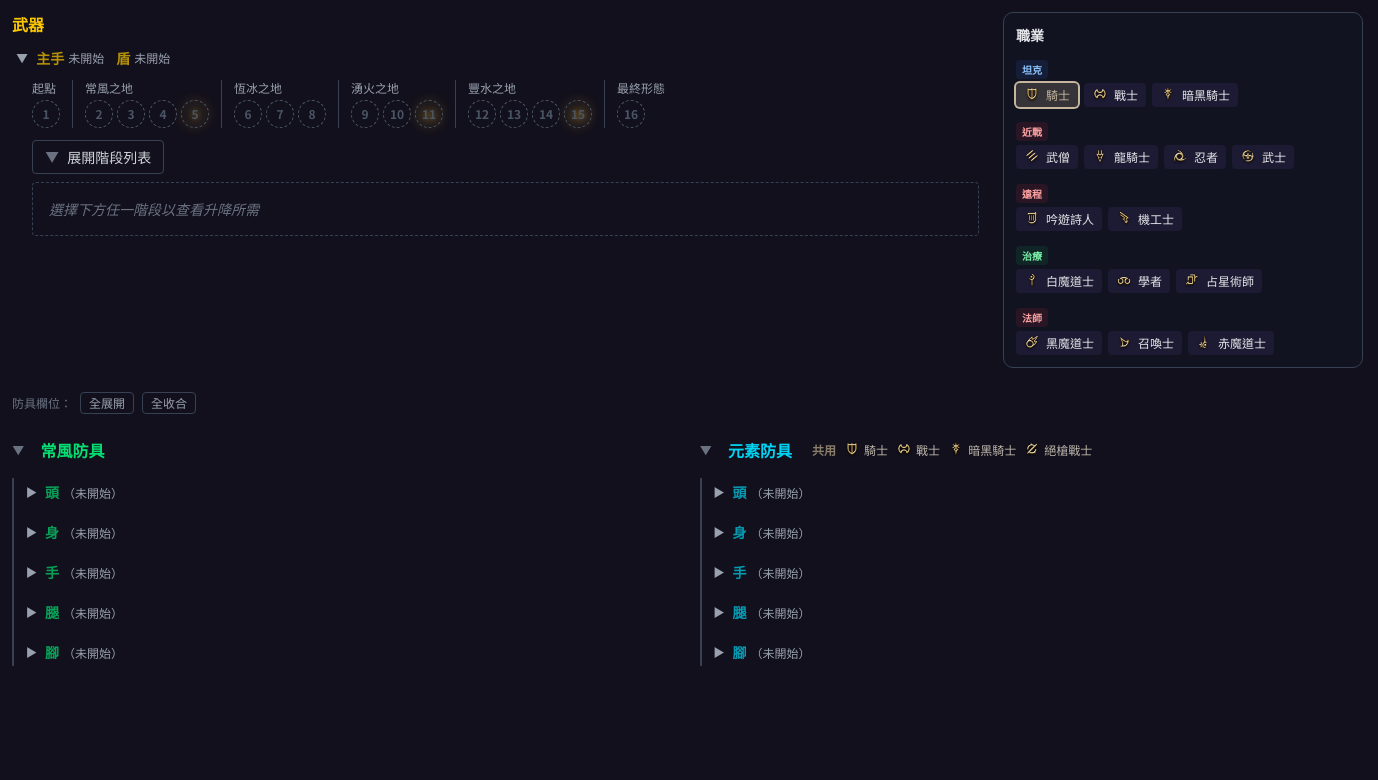
Scenario: DetailTab › armor track section collapse › clicking 常風防具 header collapses the section
This screenshot has width=1378, height=780.
Step 1. Click the button with aria-label "收合 常風防具" → click(73, 450), box [12,438,676,462]
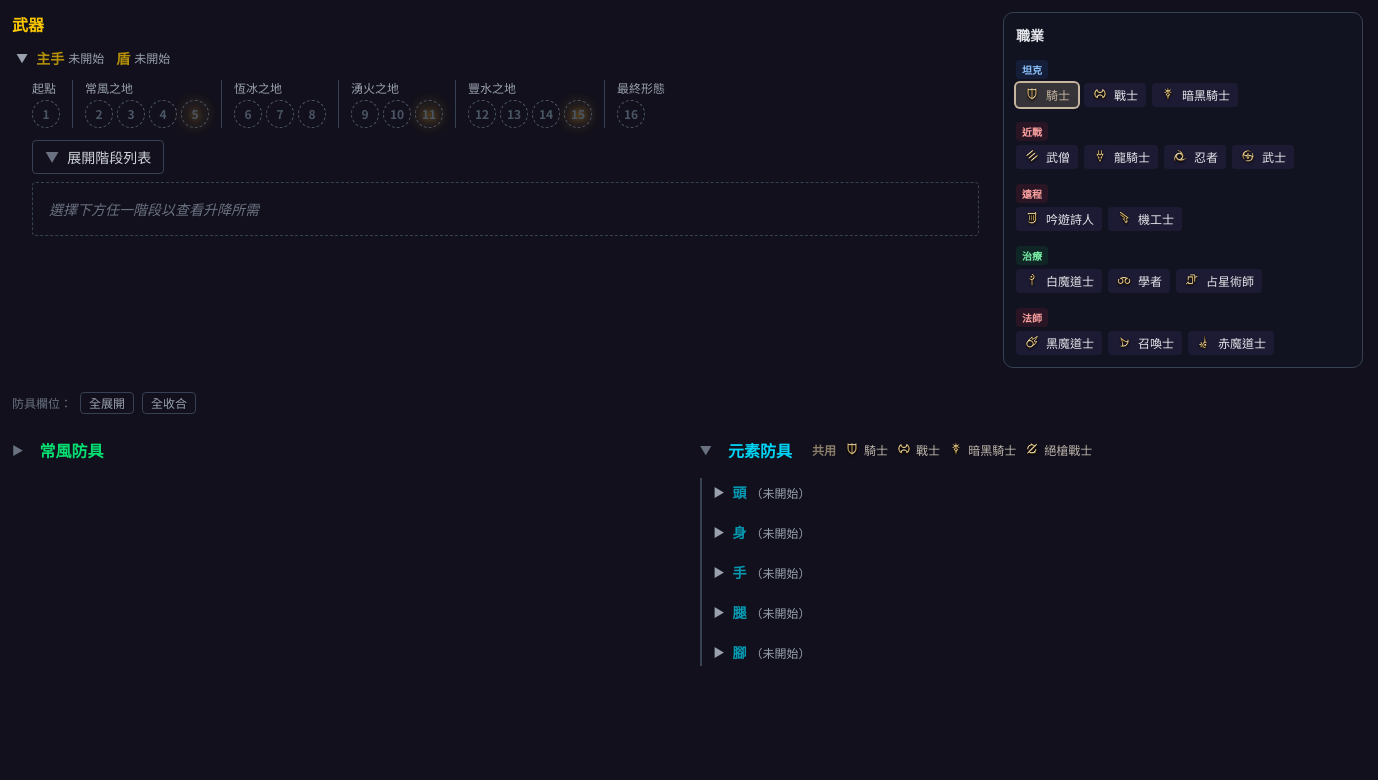
Check: the button named "收合 常風防具" is collapsed, box [12,438,676,462]
